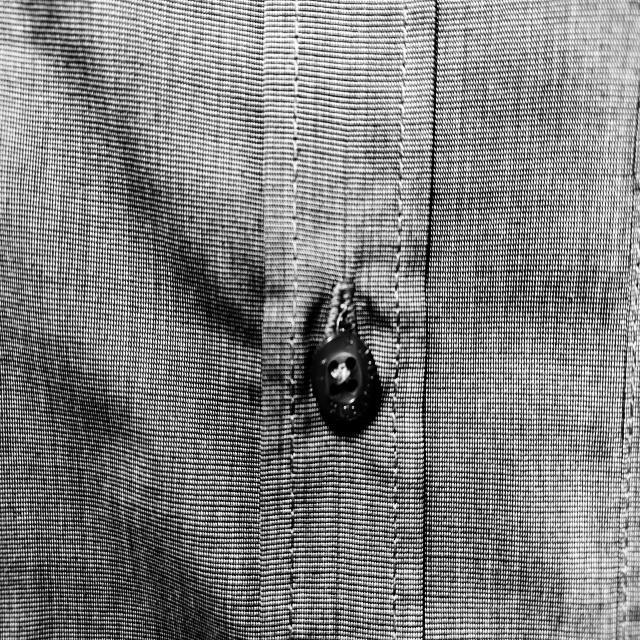Button_hike: (311, 271, 380, 429)
